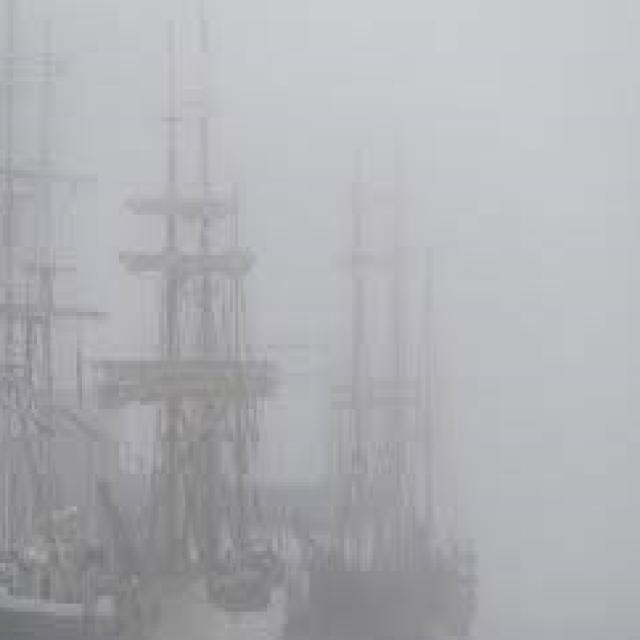fishing boat: (92, 8, 280, 640), (291, 85, 484, 640), (0, 4, 132, 640)
